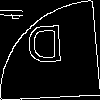D: (24, 25, 66, 72)
